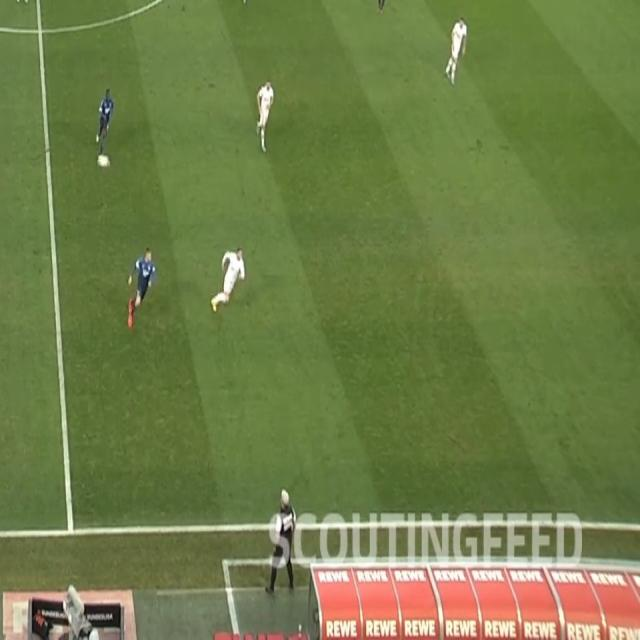ball: (95, 153, 112, 170)
